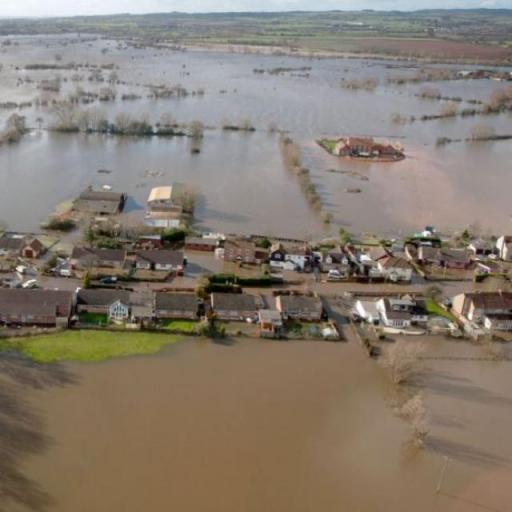flood: (0, 289, 512, 512), (0, 34, 512, 239), (242, 271, 426, 294), (446, 278, 511, 295), (136, 277, 196, 290), (223, 262, 265, 277), (38, 277, 80, 290)
house: (0, 288, 74, 325), (454, 290, 512, 328), (208, 291, 258, 321), (154, 289, 199, 321), (274, 294, 324, 322), (134, 249, 185, 270), (73, 247, 126, 266), (384, 256, 414, 282), (147, 185, 177, 210), (382, 308, 413, 330), (224, 241, 255, 262), (346, 136, 374, 158), (469, 238, 496, 258), (185, 236, 220, 251), (109, 299, 129, 320), (21, 238, 42, 258), (371, 244, 394, 262), (497, 236, 512, 262), (270, 244, 288, 260)
